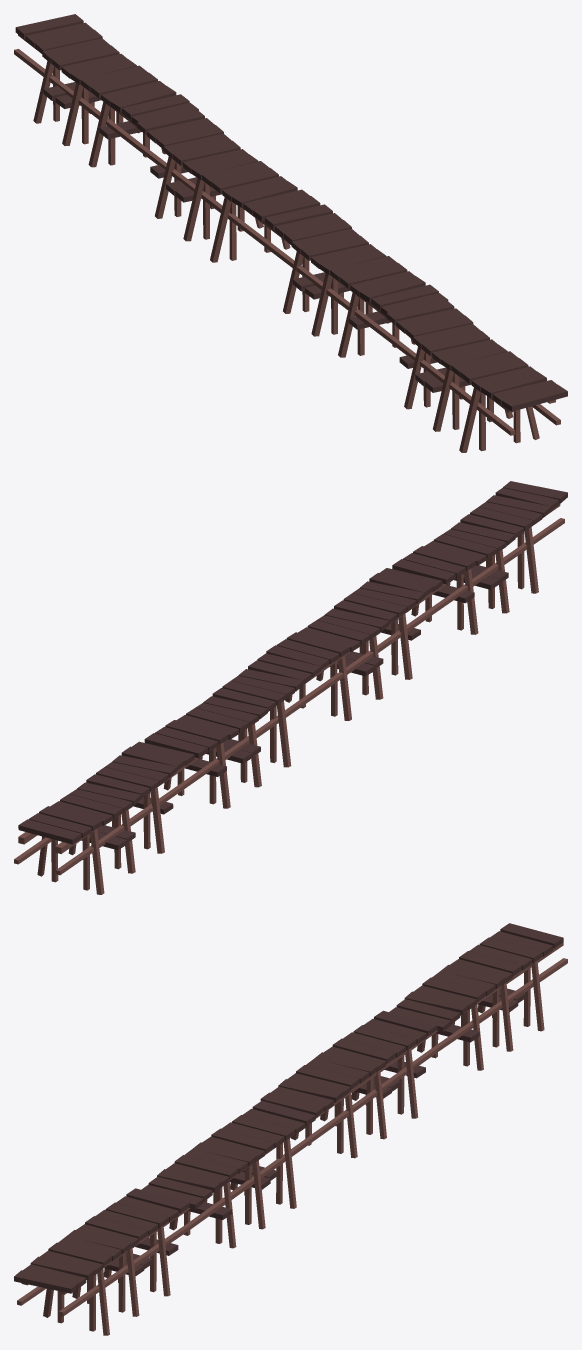
The model's file is LightRoseWoodBridgeLargeRailBridge1.fbx.
The picture shows the model from 3 angles, top to bottom: view 1: azimuth 30°, elevation 25°; view 2: azimuth 150°, elevation 25°; view 3: azimuth 330°, elevation 25°; orthographic projection. The views are drawn at different scales.
Visible parts, largest first — view 1: LightRoseWoodBridgeLargeRailBridge1; view 2: LightRoseWoodBridgeLargeRailBridge1; view 3: LightRoseWoodBridgeLargeRailBridge1.
Part boxes in pixels (x1,y1,x2,y2): LightRoseWoodBridgeLargeRailBridge1: [14, 14, 567, 452]; LightRoseWoodBridgeLargeRailBridge1: [14, 481, 567, 894]; LightRoseWoodBridgeLargeRailBridge1: [14, 923, 567, 1335].
Size of the model in its own units: 654 by 549 by 6547.
